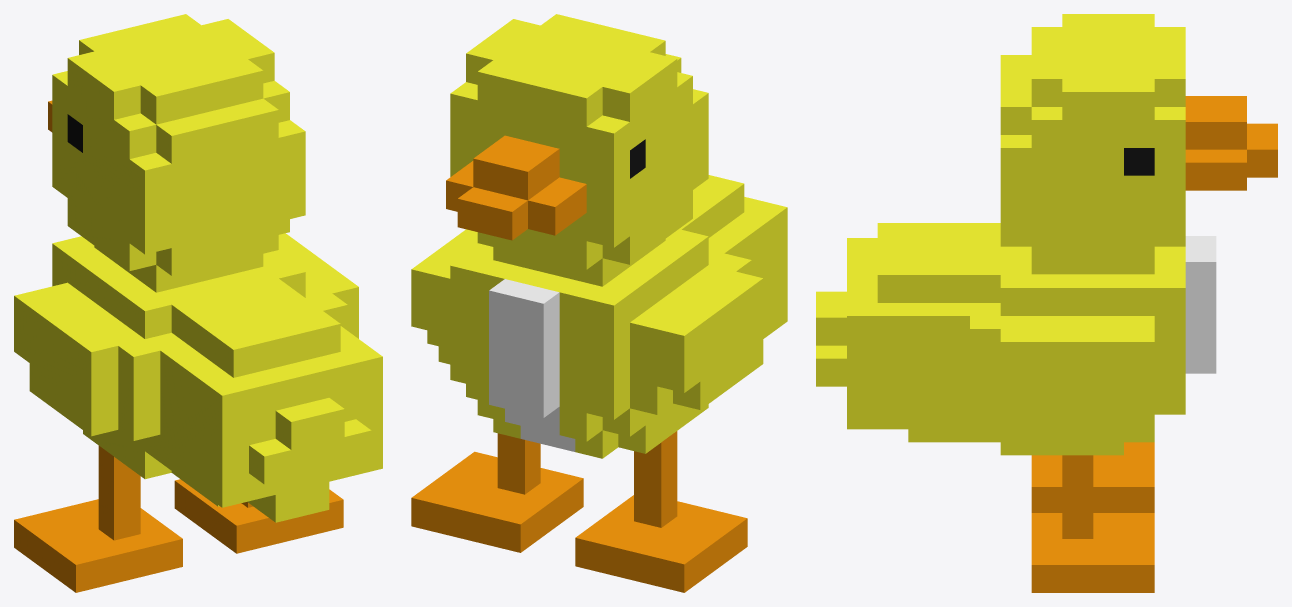
Rendered from Duck.fbx.
3 views of the same model, side by side, from view 1: azimuth 30°, elevation 25°; view 2: azimuth 150°, elevation 25°; view 3: azimuth 270°, elevation 25° (orthographic). The views are drawn at different scales.
Visible parts, largest first — view 1: Boody, Head, LegR, LegL; view 2: Boody, Head, LegR, LegL; view 3: Boody, Head, LegL, LegR.
Part boxes in pixels (bbox=[...]): Boody: bbox=[14, 233, 382, 522]; Head: bbox=[48, 14, 305, 292]; LegR: bbox=[14, 445, 182, 592]; LegL: bbox=[174, 479, 343, 553]; Boody: bbox=[411, 175, 787, 458]; Head: bbox=[446, 14, 708, 286]; LegR: bbox=[575, 431, 747, 592]; LegL: bbox=[411, 433, 583, 552]; Boody: bbox=[816, 223, 1216, 455]; Head: bbox=[1000, 14, 1277, 274]; LegL: bbox=[1031, 455, 1154, 592]; LegR: bbox=[1031, 442, 1154, 512].
Bounding box in the file's own units: 100 × 170 × 150.
